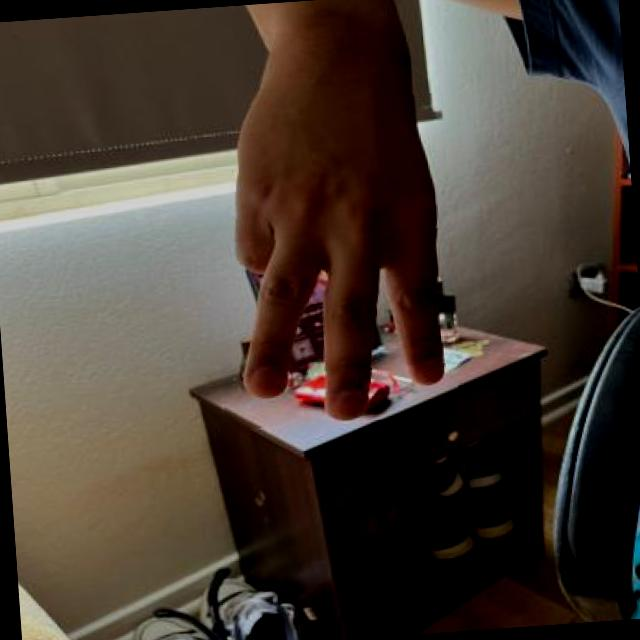M: (195, 24, 460, 430)
